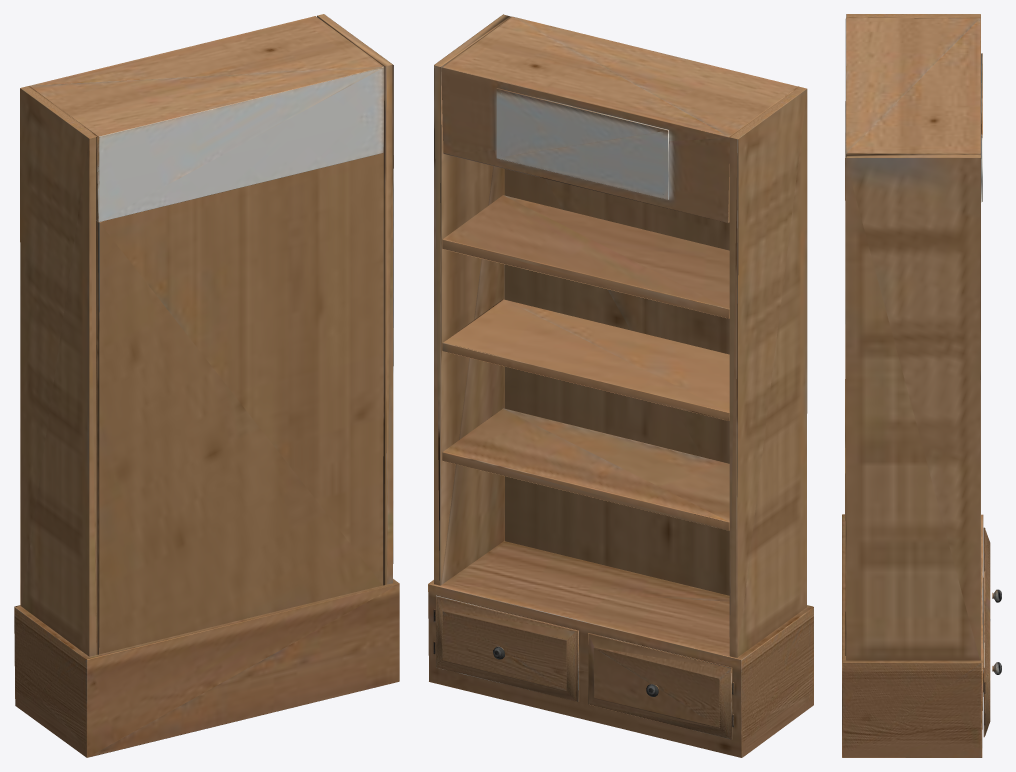
File: mall-bookstore-bookcase.glb
3 views of the same model, side by side, from view 1: azimuth 30°, elevation 25°; view 2: azimuth 150°, elevation 25°; view 3: azimuth 270°, elevation 25° (orthographic). The views are drawn at different scales.
Visible parts, largest first — view 1: bookstore-bookcase; view 2: bookstore-bookcase; view 3: bookstore-bookcase.
Part boxes in pixels (x1=…): bookstore-bookcase: x1=14, y1=14, x2=399, y2=757; bookstore-bookcase: x1=428, y1=14, x2=813, y2=757; bookstore-bookcase: x1=842, y1=14, x2=1001, y2=757.
Bounding box in the file's own units: 1.2 × 2.26 × 0.5472.
1 material, 1 textured.
